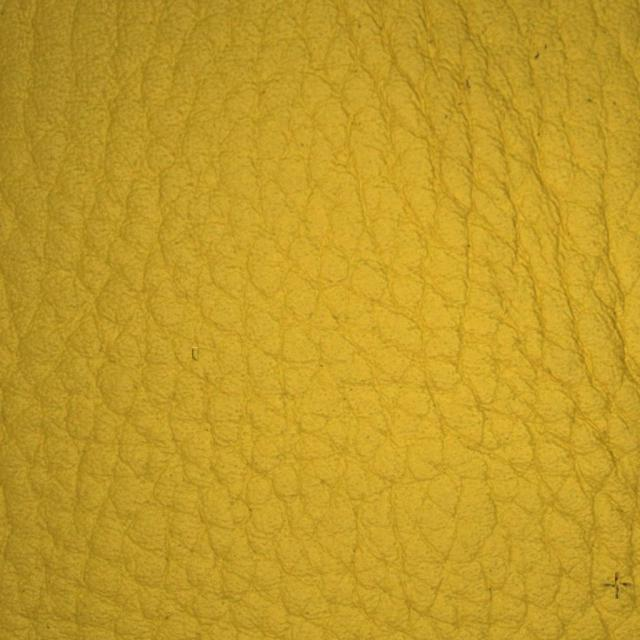Scratch: (538, 416, 629, 616)
pinhole: (419, 21, 610, 160), (127, 290, 263, 412)
